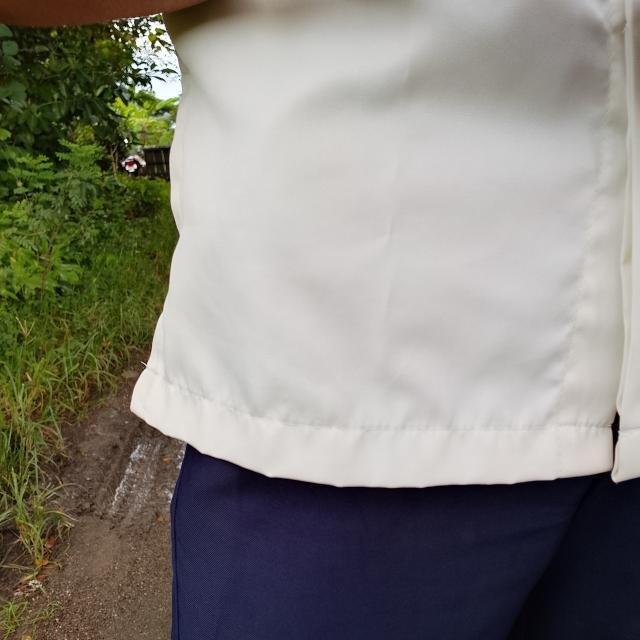education_male_uniform: (96, 0, 640, 572)
